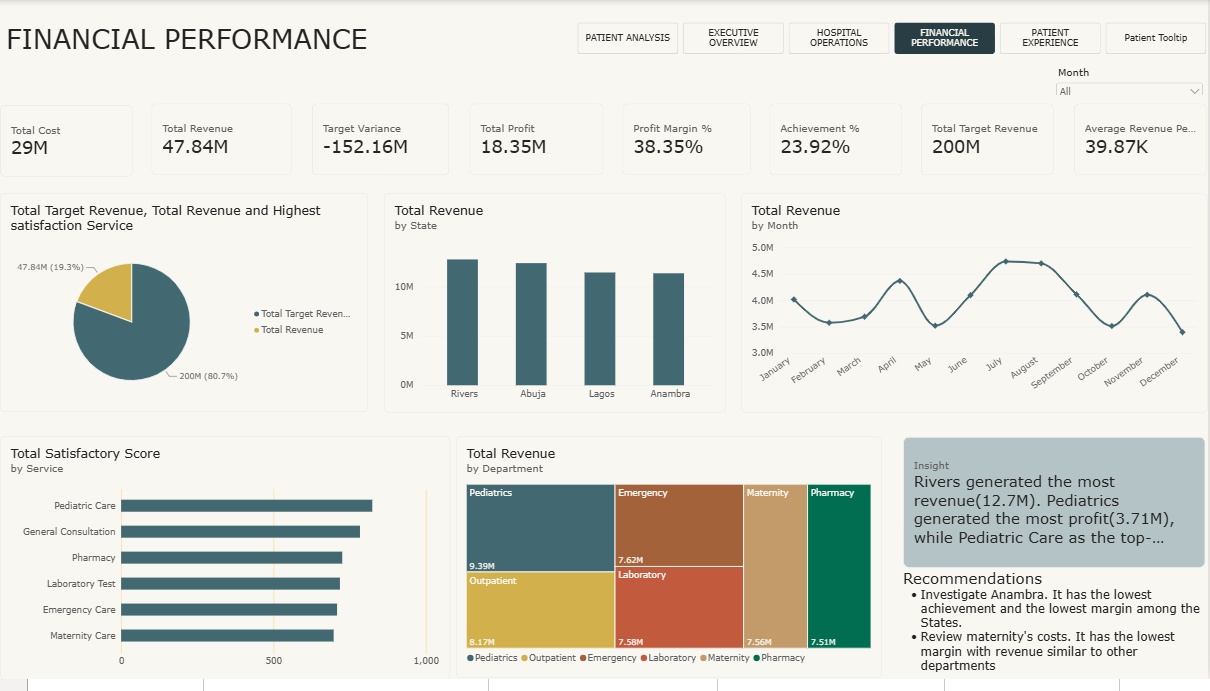

What the dashboard file says about the page in this screenshot:
{"tool":"powerbi","page":{"name":"FINANCIAL PERFORMANCE","canvas":[1920,1080],"ordinal":3},"visuals":[{"type":"cardVisual","fields":{"Data":["Patient_Visits.Total Cost"]},"box":[0,167.6,211.3,114],"z":0},{"type":"cardVisual","fields":{"Data":["Patient_Visits.Total Revenue"]},"box":[240.5,165.2,223.5,114],"z":1000},{"type":"cardVisual","fields":{"Data":["Date_Table.Total Profit"]},"box":[745.7,165.2,213.7,114],"z":2000},{"type":"cardVisual","fields":{"Data":["Date_Table.Profit Margin %"]},"box":[991,165.2,204,114],"z":3000},{"type":"cardVisual","fields":{"Data":["State_Targets.Total Target Revenue"]},"box":[1464.6,165.2,211,114],"z":4000},{"type":"cardVisual","fields":{"Data":["State_Targets.Target Variance"]},"box":[495.5,165.2,218.6,114],"z":5000},{"type":"cardVisual","fields":{"Data":["State_Targets.Achievement %"]},"box":[1224.1,165.2,211.3,114],"z":6000},{"type":"pageNavigator","box":[918.4,36.9,1000,50],"z":7000},{"type":"textbox","box":[9.7,36.4,599.9,51],"z":8000},{"type":"cardVisual","fields":{"Data":["Patient_Visits.Average Revenue Per Patient"]},"box":[1707.5,165.2,211,114],"z":9000},{"type":"clusteredColumnChart","fields":{"Category":["Patient_Visits.State"],"Y":["Patient_Visits.Total Revenue"]},"box":[610.8,307.8,544,348.3],"z":10000},{"type":"treemap","fields":{"Group":["Patient_Visits.Department"],"Values":["Patient_Visits.Total Revenue"]},"box":[725.3,694.3,677.6,384.1],"z":11000},{"type":"clusteredBarChart","fields":{"Category":["Patient_Visits.Service"],"Y":["Patient_Visits.Total Satisfactory Score"]},"box":[0,694.3,715.8,386.5],"z":12000},{"type":"slicer","fields":{"Values":["Date_Table.Month"]},"box":[1675.9,104.4,242.9,46.1],"z":13000},{"type":"pieChart","fields":{"Y":["State_Targets.Total Target Revenue","Patient_Visits.Total Revenue"]},"box":[0,308.5,585.4,347.3],"z":14000},{"type":"lineChart","fields":{"Category":["Date_Table.Month"],"Y":["Patient_Visits.Total Revenue"]},"box":[1178.6,307.8,742,348.3],"z":15000},{"type":"cardVisual","fields":{"Data":["Date_Table.Insight"]},"box":[1436.3,694.3,482,210],"z":16000},{"type":"textbox","box":[1436.3,904.3,482,174.2],"z":17000}]}

Visuals, with their boxes in screenshot pixels (x1, y1, x2, y2), scaled from the page's 1920x1080 canvas onto the 1210x691 screenshot:
cardVisual - Patient_Visits.Total Cost: 0 107 133 180
cardVisual - Patient_Visits.Total Revenue: 152 106 292 179
cardVisual - Date_Table.Total Profit: 470 106 605 179
cardVisual - Date_Table.Profit Margin %: 625 106 753 179
cardVisual - State_Targets.Total Target Revenue: 923 106 1056 179
cardVisual - State_Targets.Target Variance: 312 106 450 179
cardVisual - State_Targets.Achievement %: 771 106 905 179
pageNavigator: 579 24 1209 56
textbox: 6 23 384 56
cardVisual - Patient_Visits.Average Revenue Per Patient: 1076 106 1209 179
clusteredColumnChart - Patient_Visits.State x Patient_Visits.Total Revenue: 385 197 728 420
treemap - Patient_Visits.Department x Patient_Visits.Total Revenue: 457 444 884 690
clusteredBarChart - Patient_Visits.Service x Patient_Visits.Total Satisfactory Score: 0 444 451 690
slicer - Date_Table.Month: 1056 67 1209 96
pieChart - State_Targets.Total Target Revenue x Patient_Visits.Total Revenue: 0 197 369 420
lineChart - Date_Table.Month x Patient_Visits.Total Revenue: 743 197 1209 420
cardVisual - Date_Table.Insight: 905 444 1209 579
textbox: 905 579 1209 690
